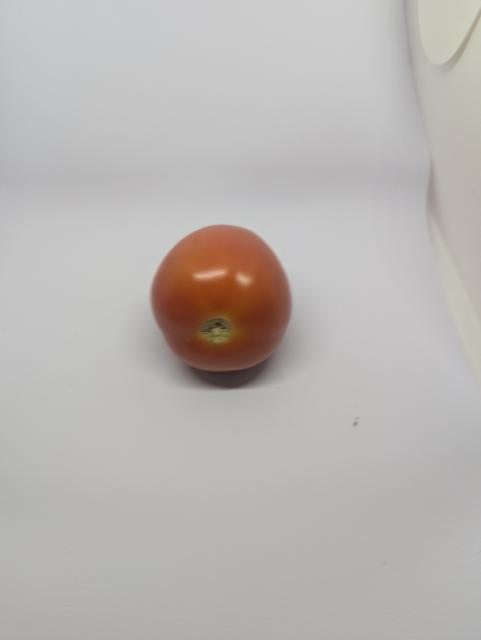red: (146, 217, 300, 386)
